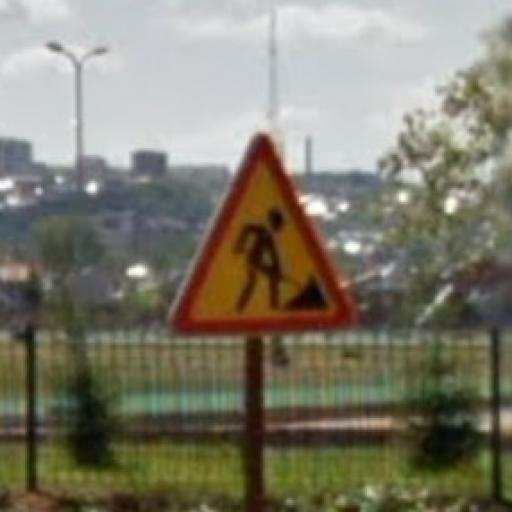traffic_sign: (168, 132, 359, 339)
